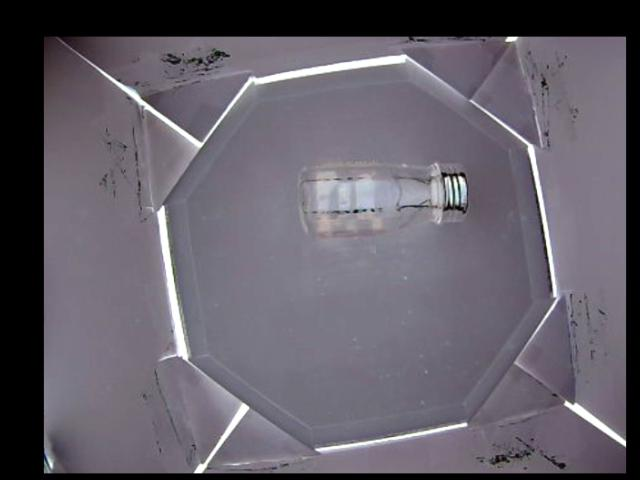Bottle: (294, 162, 469, 240)
